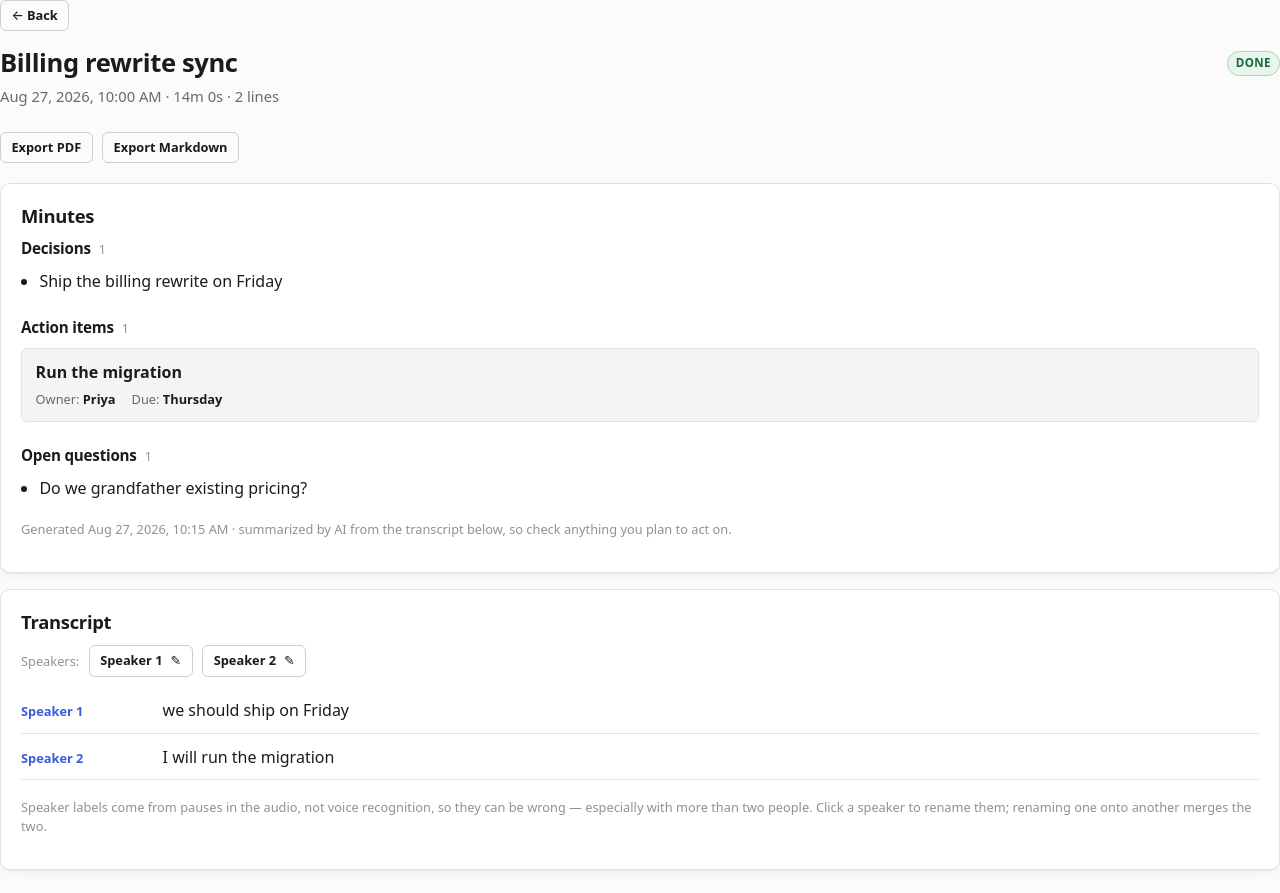
MinutesView — speaker rename › shows an error when renaming fails, without losing the transcript
Click the button named "rename speaker 1" at [141, 661], box [89,645,193,677]
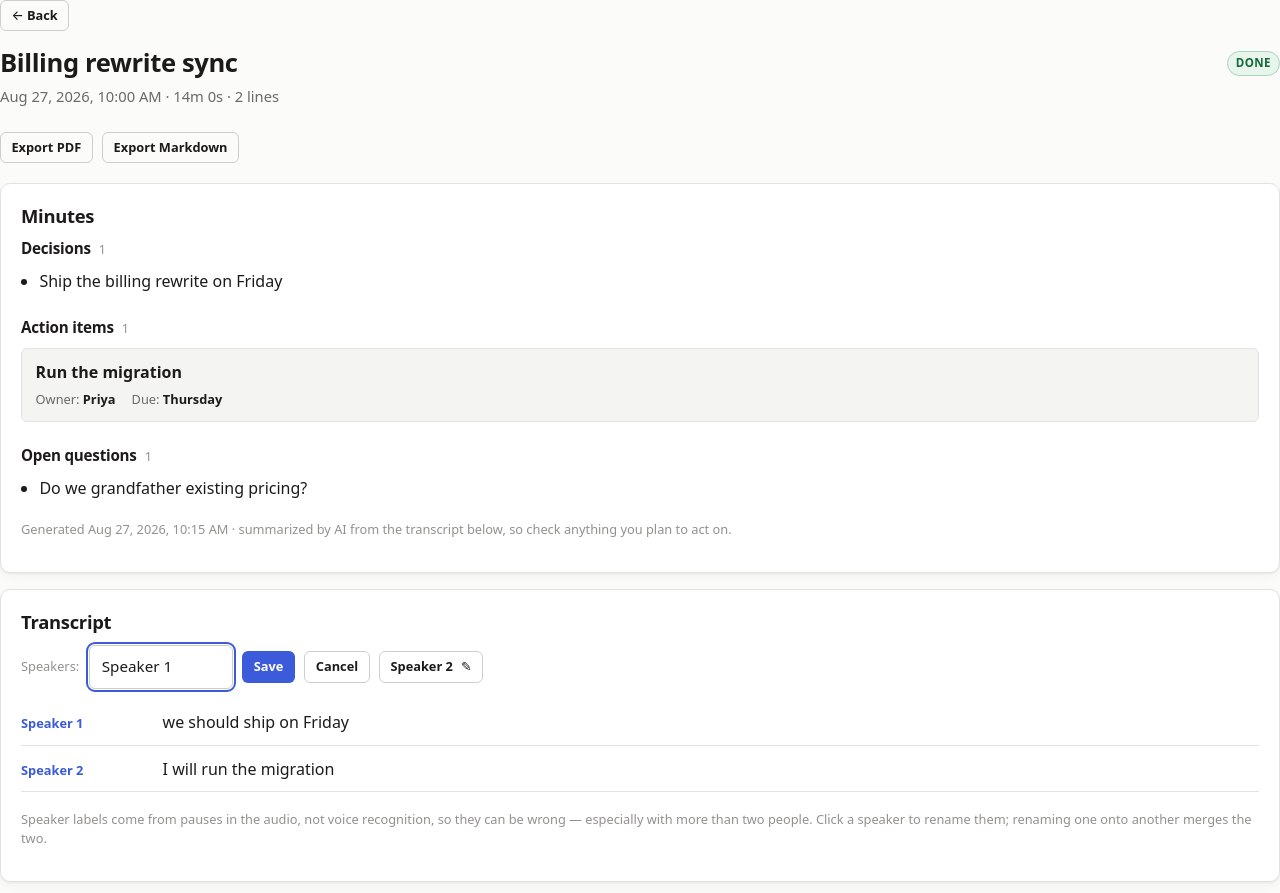
Replace the text in the field named "new name for speaker 1" with "Alex" at [161, 667], box [89,645,233,688]
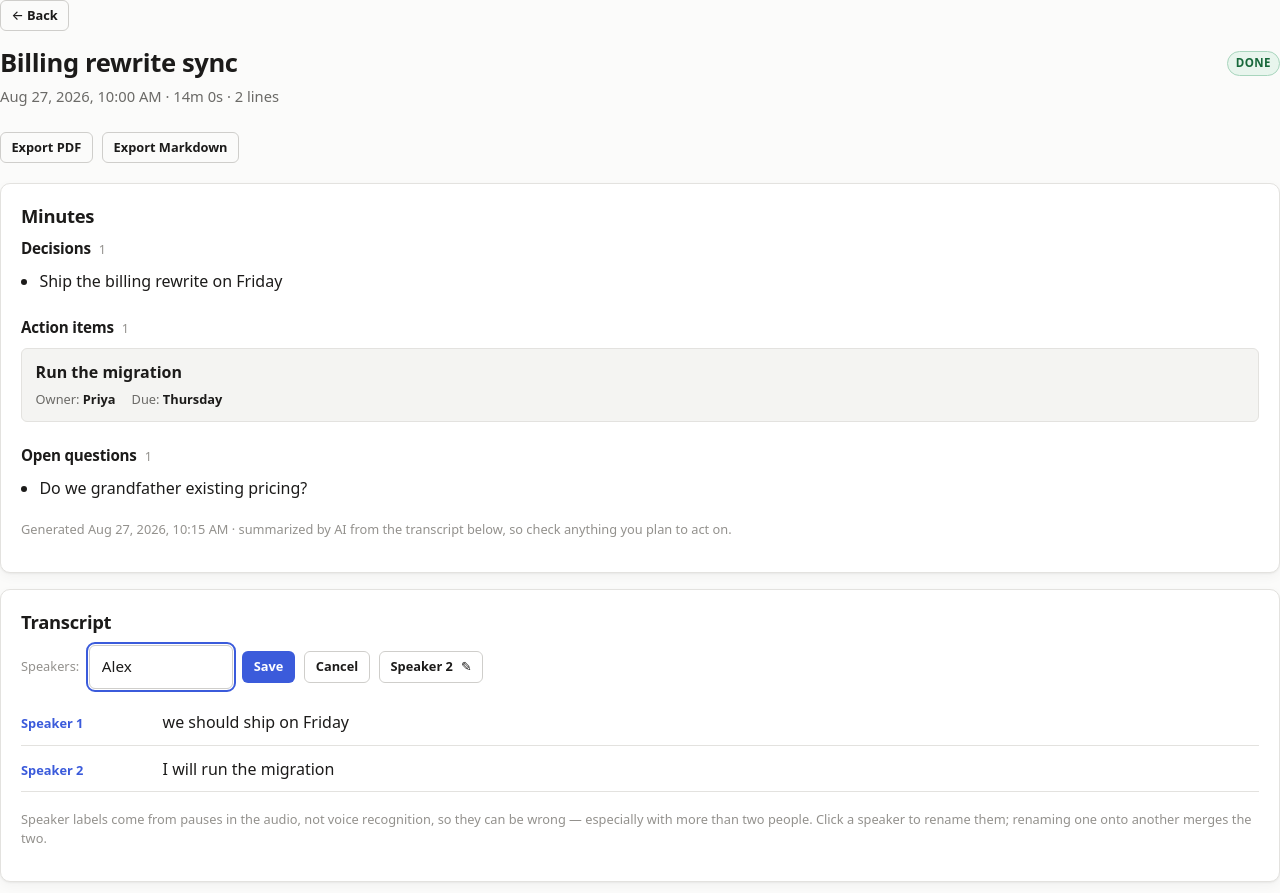
Click the button "Save" at [269, 667], box [242,651,295,683]
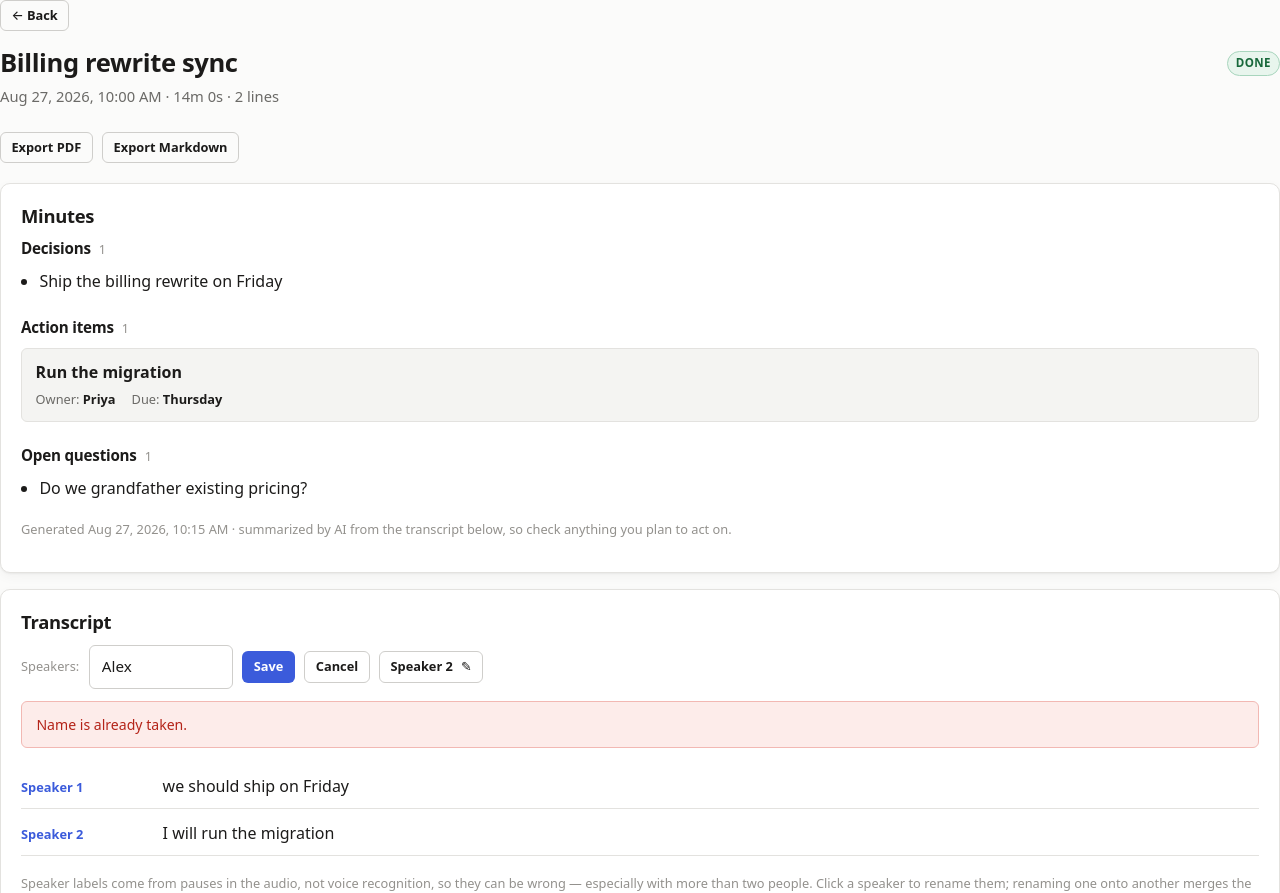
Expected: the text "we should ship on Friday" is shown, [163,775,349,797]
Now the text "Name is already taken." is shown, box [36,714,187,734]
